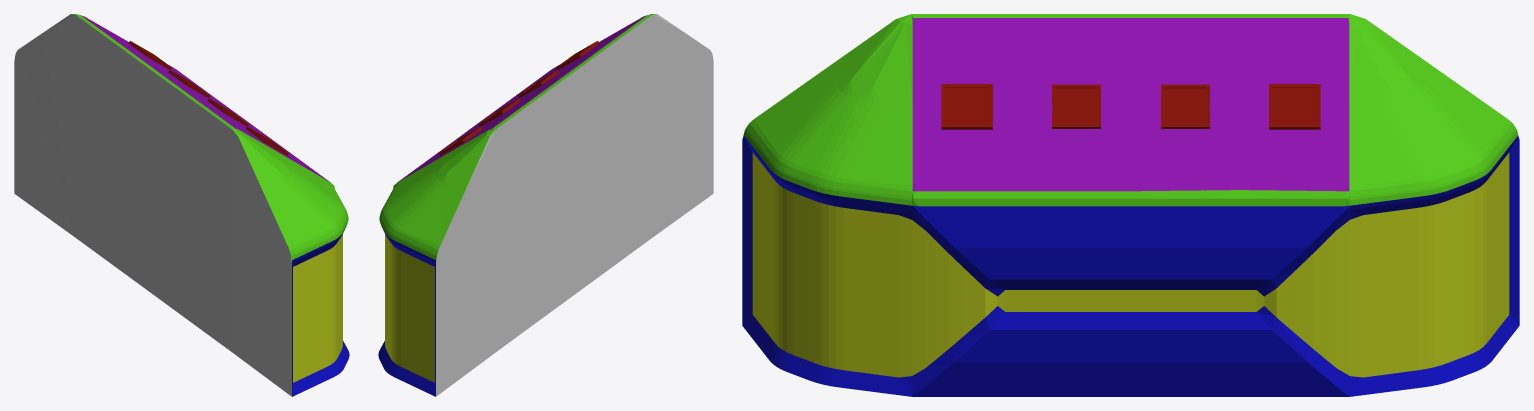
File: Skins.fbx
3 views of the same model, side by side, from view 1: azimuth 30°, elevation 25°; view 2: azimuth 150°, elevation 25°; view 3: azimuth 270°, elevation 25° (orthographic). The views are drawn at different scales.
Parts seen in each view (by area): view 1: Box001; view 2: Box001; view 3: Box001.
Part boxes in pixels (x1,y1,x2,y2): Box001: (14, 14, 349, 396); Box001: (378, 14, 713, 396); Box001: (742, 14, 1519, 396).
Bounding box in the file's own units: 0.4198 × 0.8197 × 1.85.
